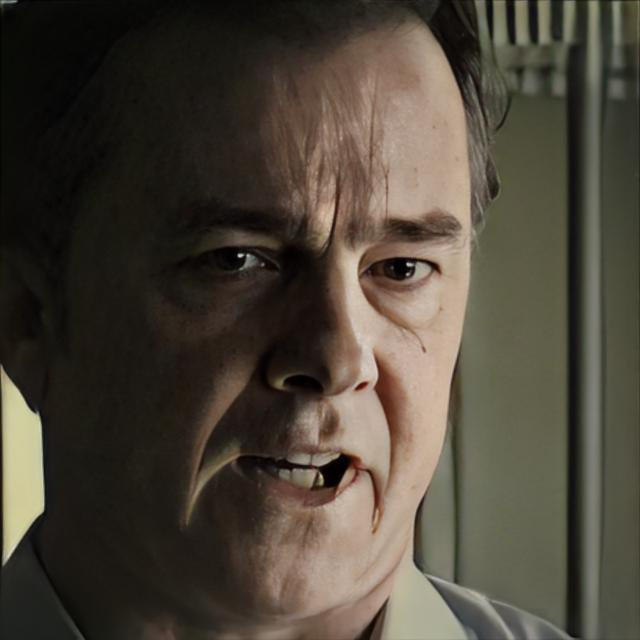anger: (60, 34, 474, 598)
